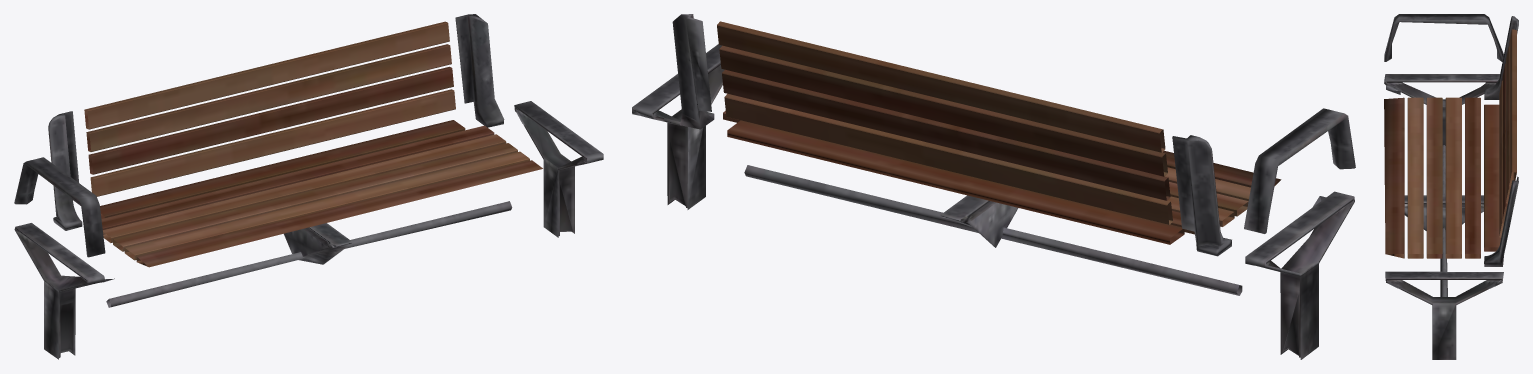
File: banc_modulaire_lod2.glb
The picture shows the model from 3 angles, left to right: view 1: azimuth 30°, elevation 25°; view 2: azimuth 150°, elevation 25°; view 3: azimuth 270°, elevation 25°; orthographic projection. The views are drawn at different scales.
Parts seen in each view (by area): view 1: seat, legs_double, crossbar, back_support_r; view 2: seat, legs_double, crossbar, back_support_r; view 3: seat, legs_double, crossbar, back_support_r.
Part boxes in pixels (x1,y1,x2,y2): seat: [84, 21, 542, 267]; legs_double: [14, 101, 603, 359]; crossbar: [14, 14, 512, 307]; back_support_r: [48, 111, 82, 230]; seat: [717, 21, 1281, 244]; legs_double: [632, 44, 1354, 359]; crossbar: [672, 14, 1355, 295]; back_support_r: [1172, 135, 1231, 256]; seat: [1384, 29, 1516, 258]; legs_double: [1384, 74, 1503, 359]; crossbar: [1384, 14, 1518, 296]; back_support_r: [1484, 16, 1518, 99].
Bounding box in the file's own units: 2.4 × 0.8665 × 0.6694.
3 materials, 3 textured.
